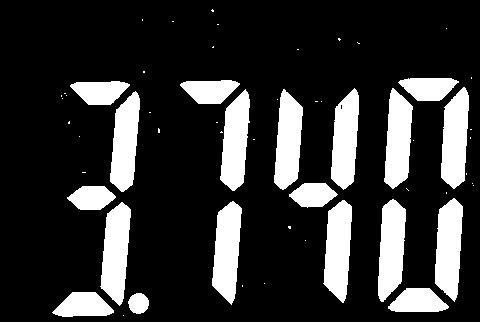0: (373, 75, 472, 316)
3: (48, 72, 140, 322)
4: (272, 88, 365, 309)
7: (175, 79, 250, 308)
dot: (127, 290, 151, 315)
